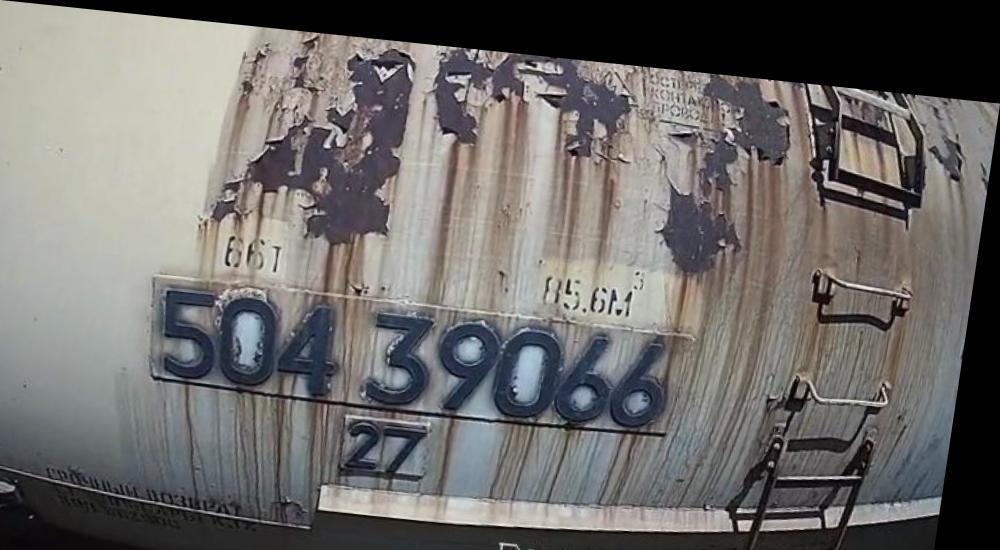Wagon-number: (151, 272, 694, 422)
